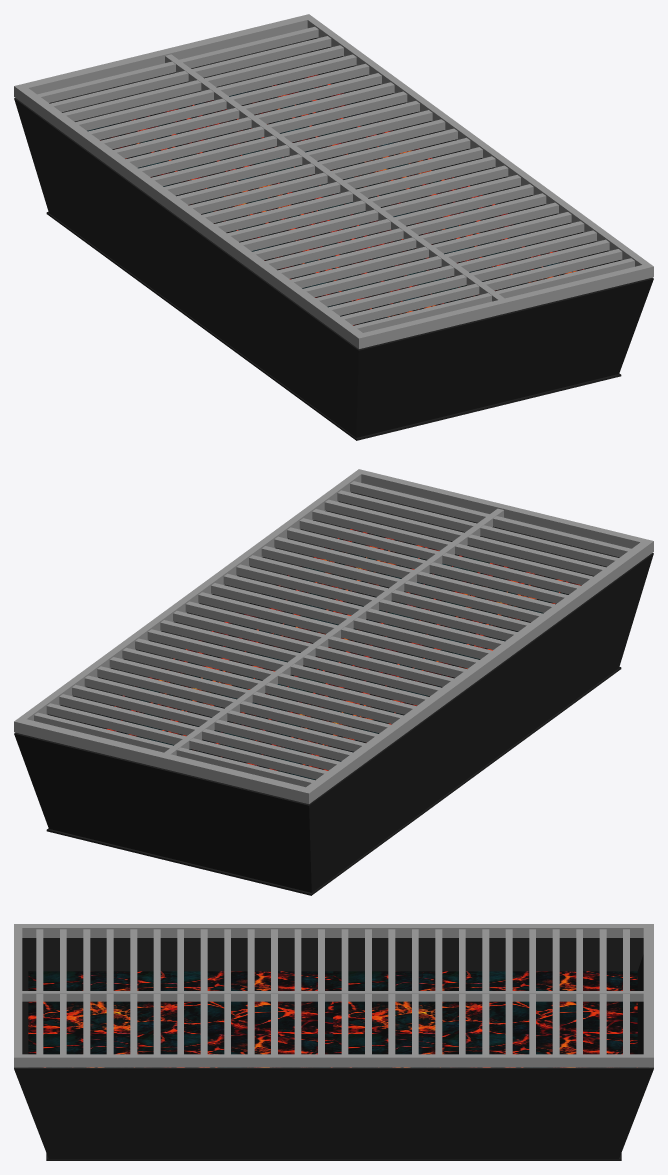
Rendered from Grill.fbx.
3 renders of one model, top to bottom at view 1: azimuth 30°, elevation 25°; view 2: azimuth 150°, elevation 25°; view 3: azimuth 270°, elevation 25°, orthographic. The views are drawn at different scales.
Parts seen in each view (by area): view 1: Cube.001, Cube.013, Plane; view 2: Cube.001, Cube.013, Plane; view 3: Cube.013, Cube.001, Plane.
Boxes of the visible parts, x1,y1,x2,y2 form: Cube.001: [14, 14, 653, 348]; Cube.013: [14, 37, 653, 440]; Plane: [87, 74, 583, 325]; Cube.001: [14, 469, 653, 803]; Cube.013: [14, 492, 653, 895]; Plane: [85, 529, 581, 780]; Cube.013: [14, 938, 653, 1160]; Cube.001: [14, 924, 653, 1067]; Plane: [28, 971, 637, 1067].
Size of the model in its own units: 618 by 117 by 305.
